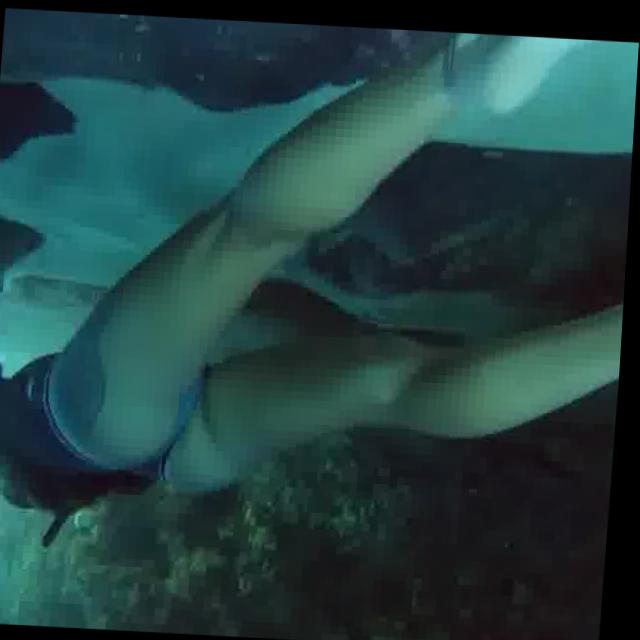human: (0, 7, 640, 564)
